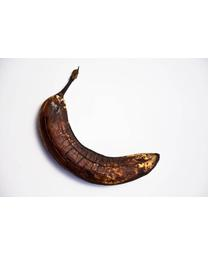banana: (35, 65, 161, 186)
